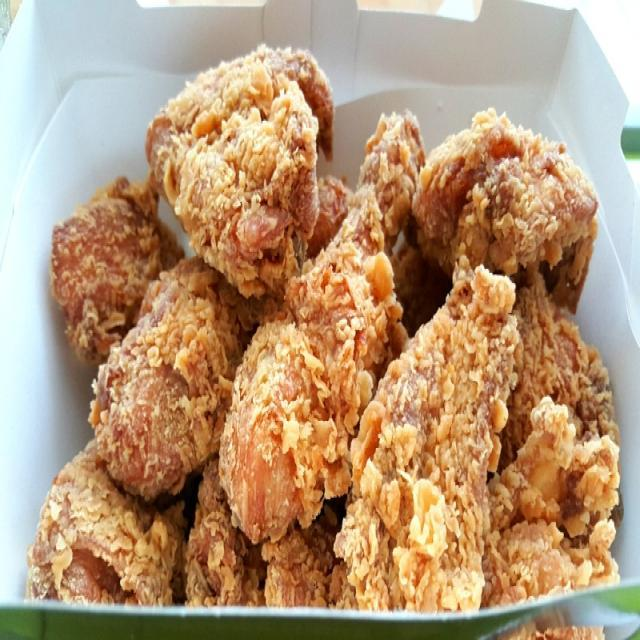Frango: (50, 69, 624, 604)
